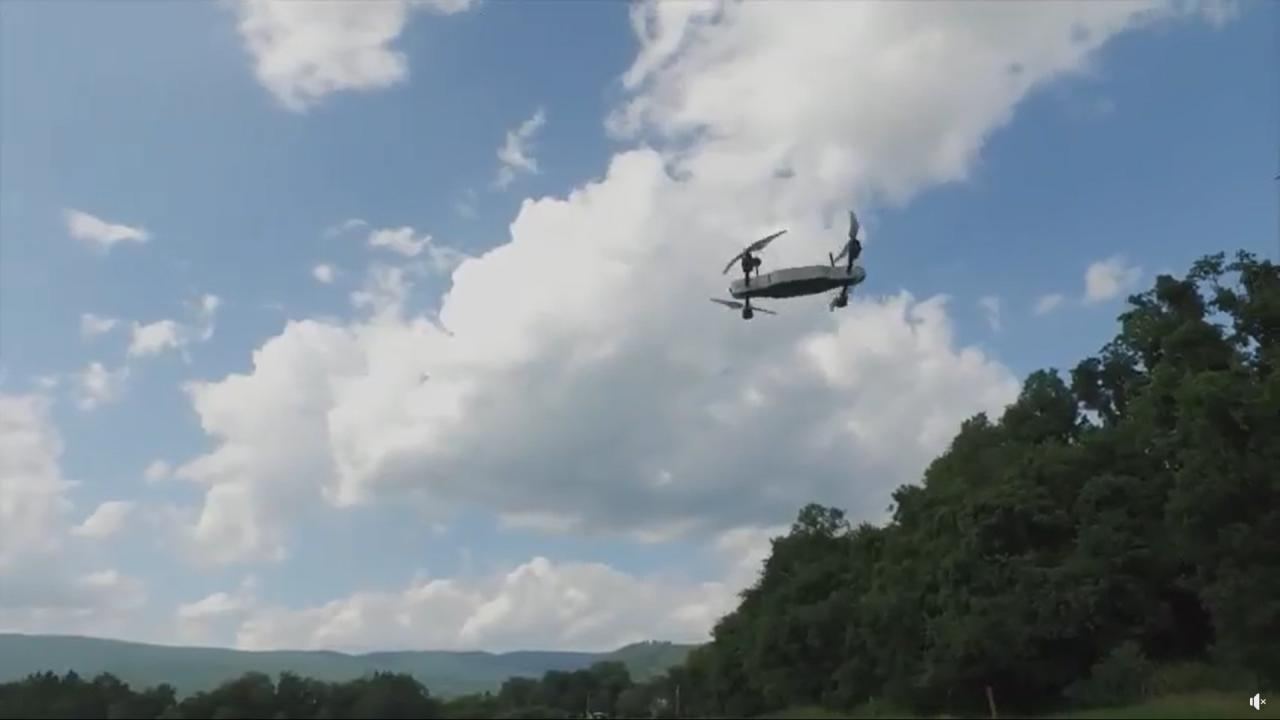Drone: (702, 195, 882, 332)
